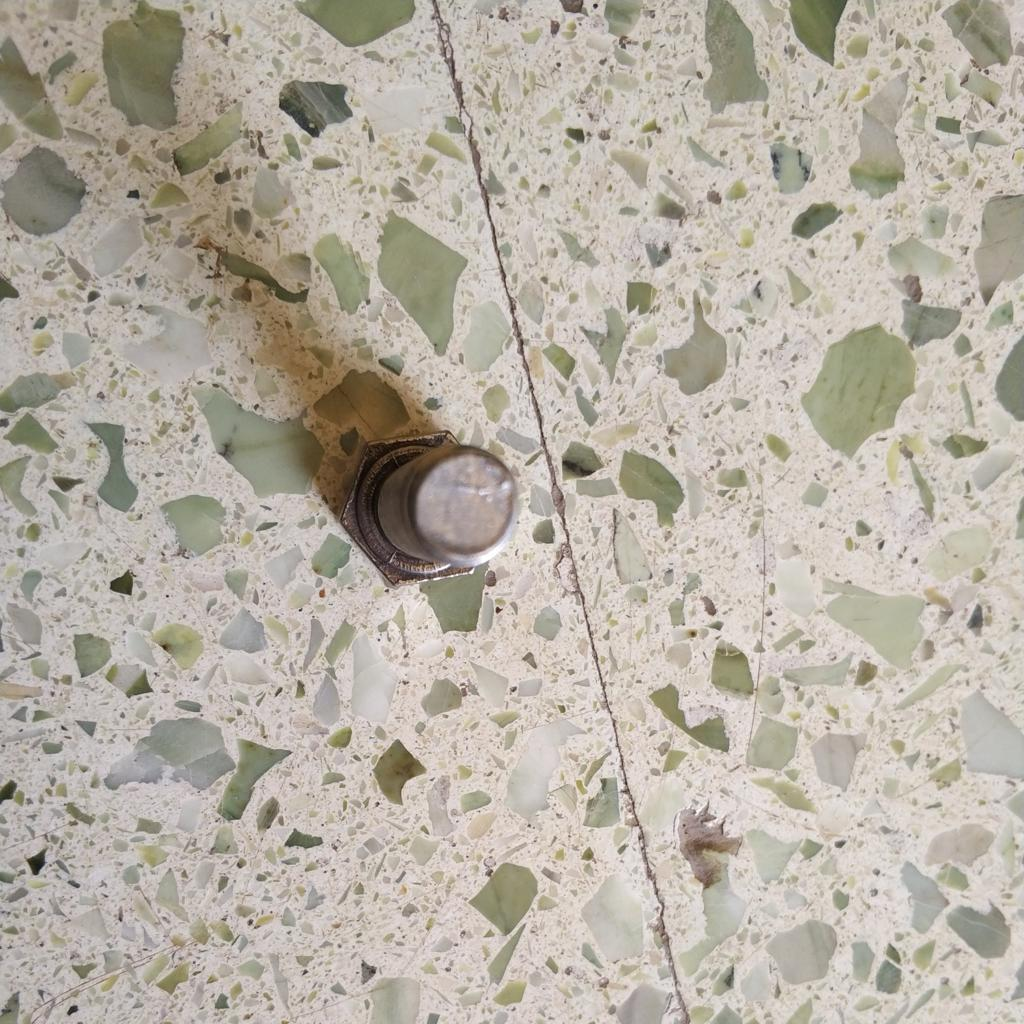screwtype2silver: (332, 421, 531, 603)
